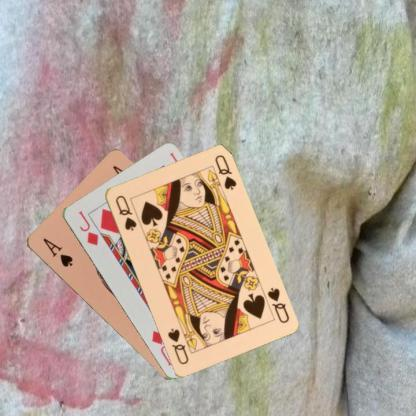As: (40, 235, 74, 269)
Jd: (76, 207, 100, 247)
Qs: (264, 285, 291, 325), (112, 192, 138, 232)
